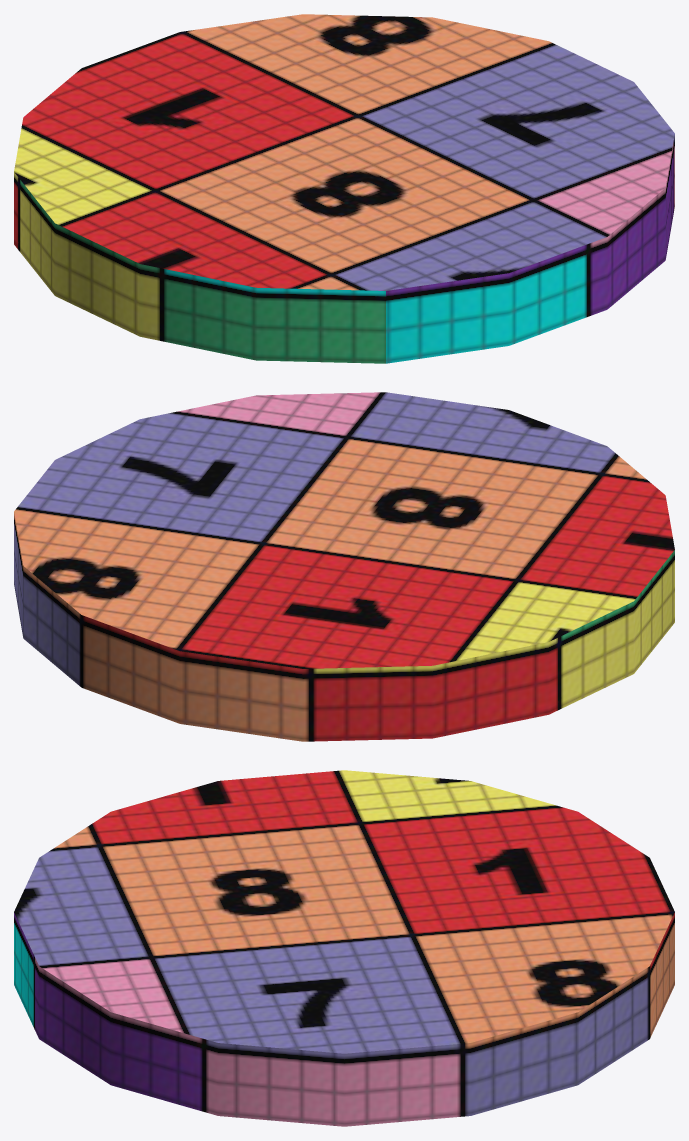
File: reel4_quarter_scaled.FBX
The picture shows the model from 3 angles, top to bottom: view 1: azimuth 30°, elevation 25°; view 2: azimuth 150°, elevation 25°; view 3: azimuth 270°, elevation 25°; orthographic projection.
Visible parts, largest first — view 1: Cylinder003; view 2: Cylinder003; view 3: Cylinder003.
Part boxes in pixels (bbox=[...]): Cylinder003: bbox=[14, 14, 674, 363]; Cylinder003: bbox=[14, 392, 674, 741]; Cylinder003: bbox=[14, 770, 674, 1126].
Size of the model in its own units: 2598 by 312 by 2560.
1 material, 1 textured.
